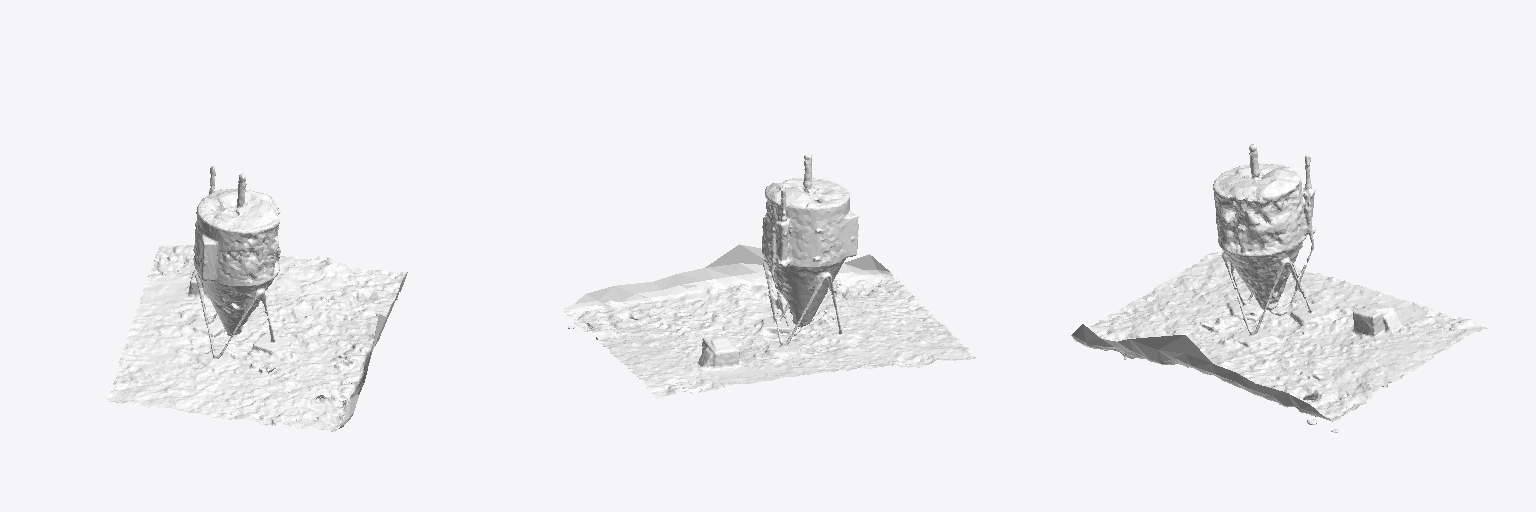
File: horno.obj
3 views of the same model, side by side, from view 1: azimuth 30°, elevation 25°; view 2: azimuth 150°, elevation 25°; view 3: azimuth 270°, elevation 25° (orthographic).
Size of the model in its own units: 5.67 by 2.98 by 5.77.